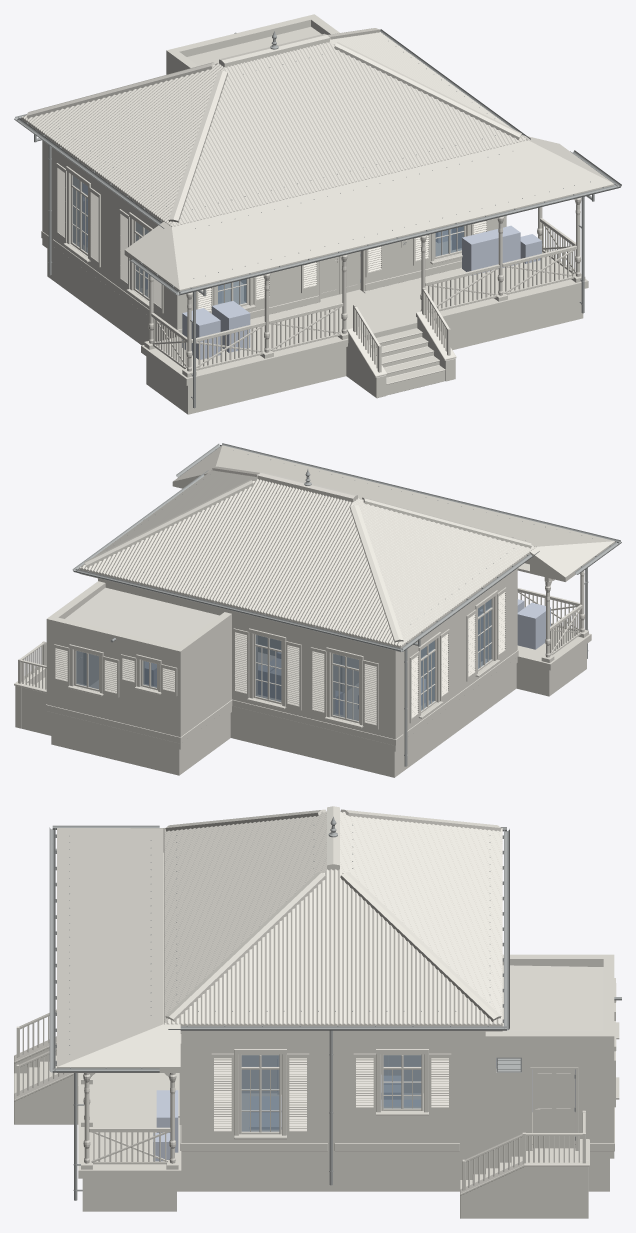
The model's file is cite_moulin_h04.glb.
The picture shows the model from 3 angles, top to bottom: view 1: azimuth 30°, elevation 25°; view 2: azimuth 150°, elevation 25°; view 3: azimuth 270°, elevation 25°; orthographic projection. The views are drawn at different scales.
Parts seen in each view (by area): view 1: Roof_Main, Shell_Main, Roof_Veranda, paint_clean, Roof_Caps, plaster_cream_warm, galvanized_steel, shutter_paint, pavers_concrete, glass, Ph_hall_bench_01, Ph_hall_rocking_chair_02 (+4 smaller); view 2: Shell_Main, Roof_Main, Roof_Veranda, shutter_paint, plaster_cream_warm, paint_clean, glass, galvanized_steel, Roof_Caps, Ph_hall_rocking_chair_01; view 3: Shell_Main, Roof_Main, Roof_Veranda, plaster_cream_warm, paint_clean, Roof_Caps, shutter_paint, galvanized_steel, glass, DoorLeaf_08_L_in, concrete_cast, pavers_concrete (+3 smaller).
Part boxes in pixels (left/top/right/bottom): Roof_Main: left=21, top=32, right=527, bottom=226; Shell_Main: left=42, top=14, right=588, bottom=414; Roof_Veranda: left=124, top=135, right=614, bottom=291; paint_clean: left=71, top=174, right=585, bottom=377; Roof_Caps: left=26, top=28, right=521, bottom=222; plaster_cream_warm: left=41, top=166, right=470, bottom=398; galvanized_steel: left=14, top=29, right=621, bottom=408; shutter_paint: left=56, top=163, right=488, bottom=313; pavers_concrete: left=367, top=328, right=445, bottom=395; glass: left=73, top=176, right=463, bottom=304; Ph_hall_bench_01: left=462, top=225, right=520, bottom=275; Ph_hall_rocking_chair_02: left=212, top=301, right=250, bottom=352; Shell_Main: left=46, top=568, right=591, bottom=777; Roof_Main: left=79, top=470, right=536, bottom=652; Roof_Veranda: left=172, top=445, right=615, bottom=581; shutter_paint: left=53, top=587, right=506, bottom=729; plaster_cream_warm: left=15, top=590, right=518, bottom=745; paint_clean: left=18, top=570, right=588, bottom=723; glass: left=76, top=599, right=491, bottom=720; galvanized_steel: left=72, top=443, right=621, bottom=766; Roof_Caps: left=84, top=466, right=531, bottom=642; Ph_hall_rocking_chair_01: left=517, top=602, right=550, bottom=649; Shell_Main: left=78, top=954, right=614, bottom=1211; Roof_Main: left=164, top=811, right=502, bottom=1031; Roof_Veranda: left=57, top=828, right=180, bottom=1072; plaster_cream_warm: left=14, top=983, right=619, bottom=1218; paint_clean: left=16, top=1009, right=585, bottom=1190; Roof_Caps: left=165, top=806, right=501, bottom=1021; shutter_paint: left=179, top=978, right=615, bottom=1135; galvanized_steel: left=49, top=825, right=621, bottom=1200; glass: left=241, top=1055, right=421, bottom=1131; DoorLeaf_08_L_in: left=533, top=1069, right=575, bottom=1148; concrete_cast: left=14, top=1036, right=589, bottom=1195; pavers_concrete: left=14, top=1055, right=578, bottom=1189.
Size of the model in its own units: 13.54 by 7.38 by 14.18.
